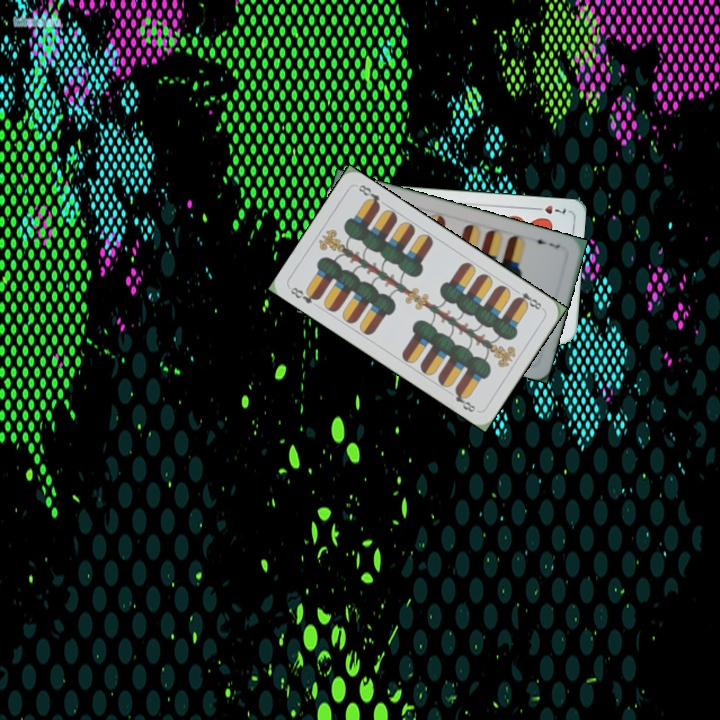E7: (529, 234, 562, 251)
E8: (511, 285, 546, 313), (286, 283, 322, 306)
H7: (529, 201, 570, 217)
